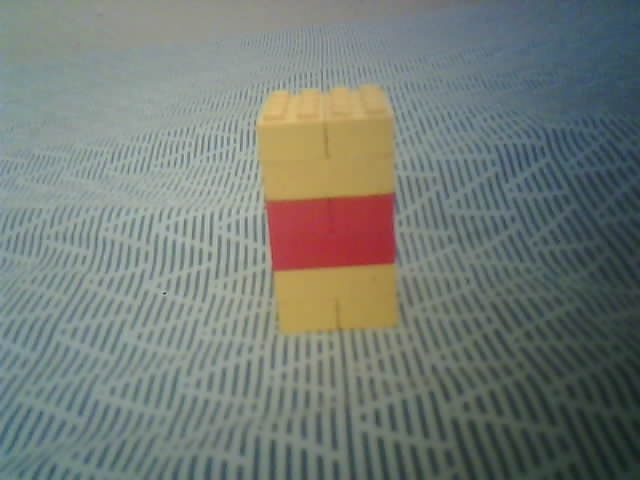lego: (253, 83, 398, 336)
